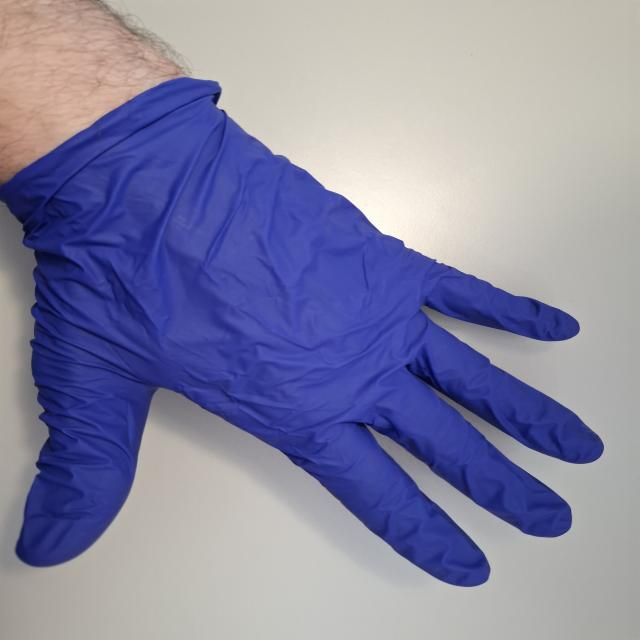glove_on: (0, 74, 608, 590)
